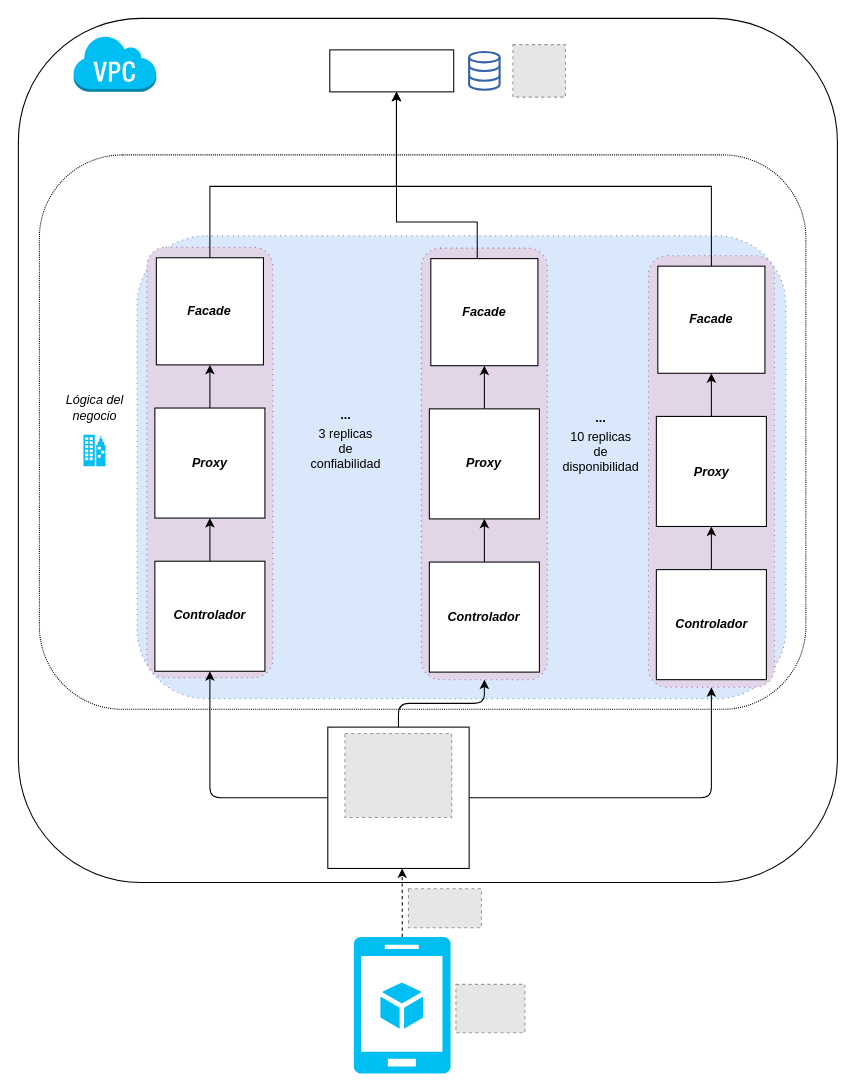
The diagram is 856 pixels wide and 1092 high, and some of its shapes have lost their labels. Grey dashed boxes stand in for pictures. Here are the shapes that lost their labels. From the top down, the box of each, then its label:
(329, 49, 454, 92): Persistencia
(327, 726, 469, 868): Balanceador de carga
